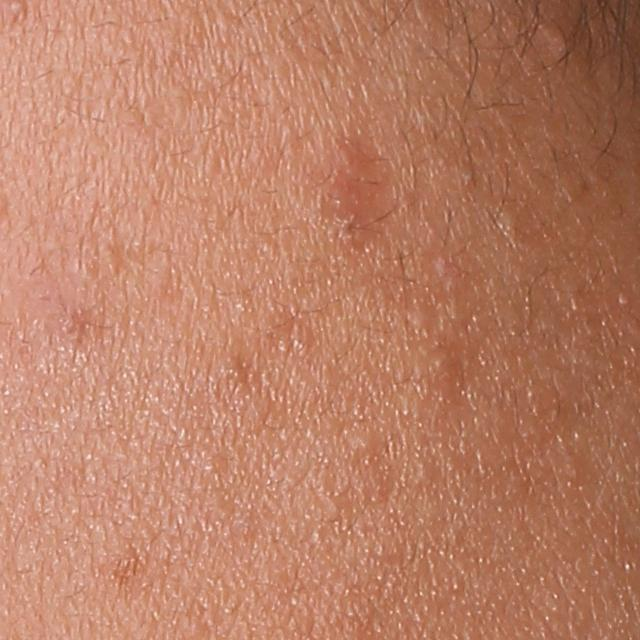comedo: (542, 14, 585, 62), (493, 196, 524, 234), (345, 426, 378, 455), (403, 304, 435, 332)
